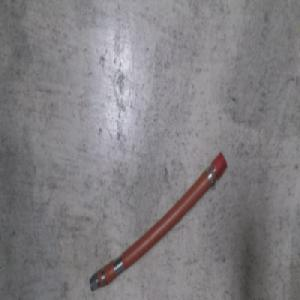Hose: (87, 148, 227, 293)
